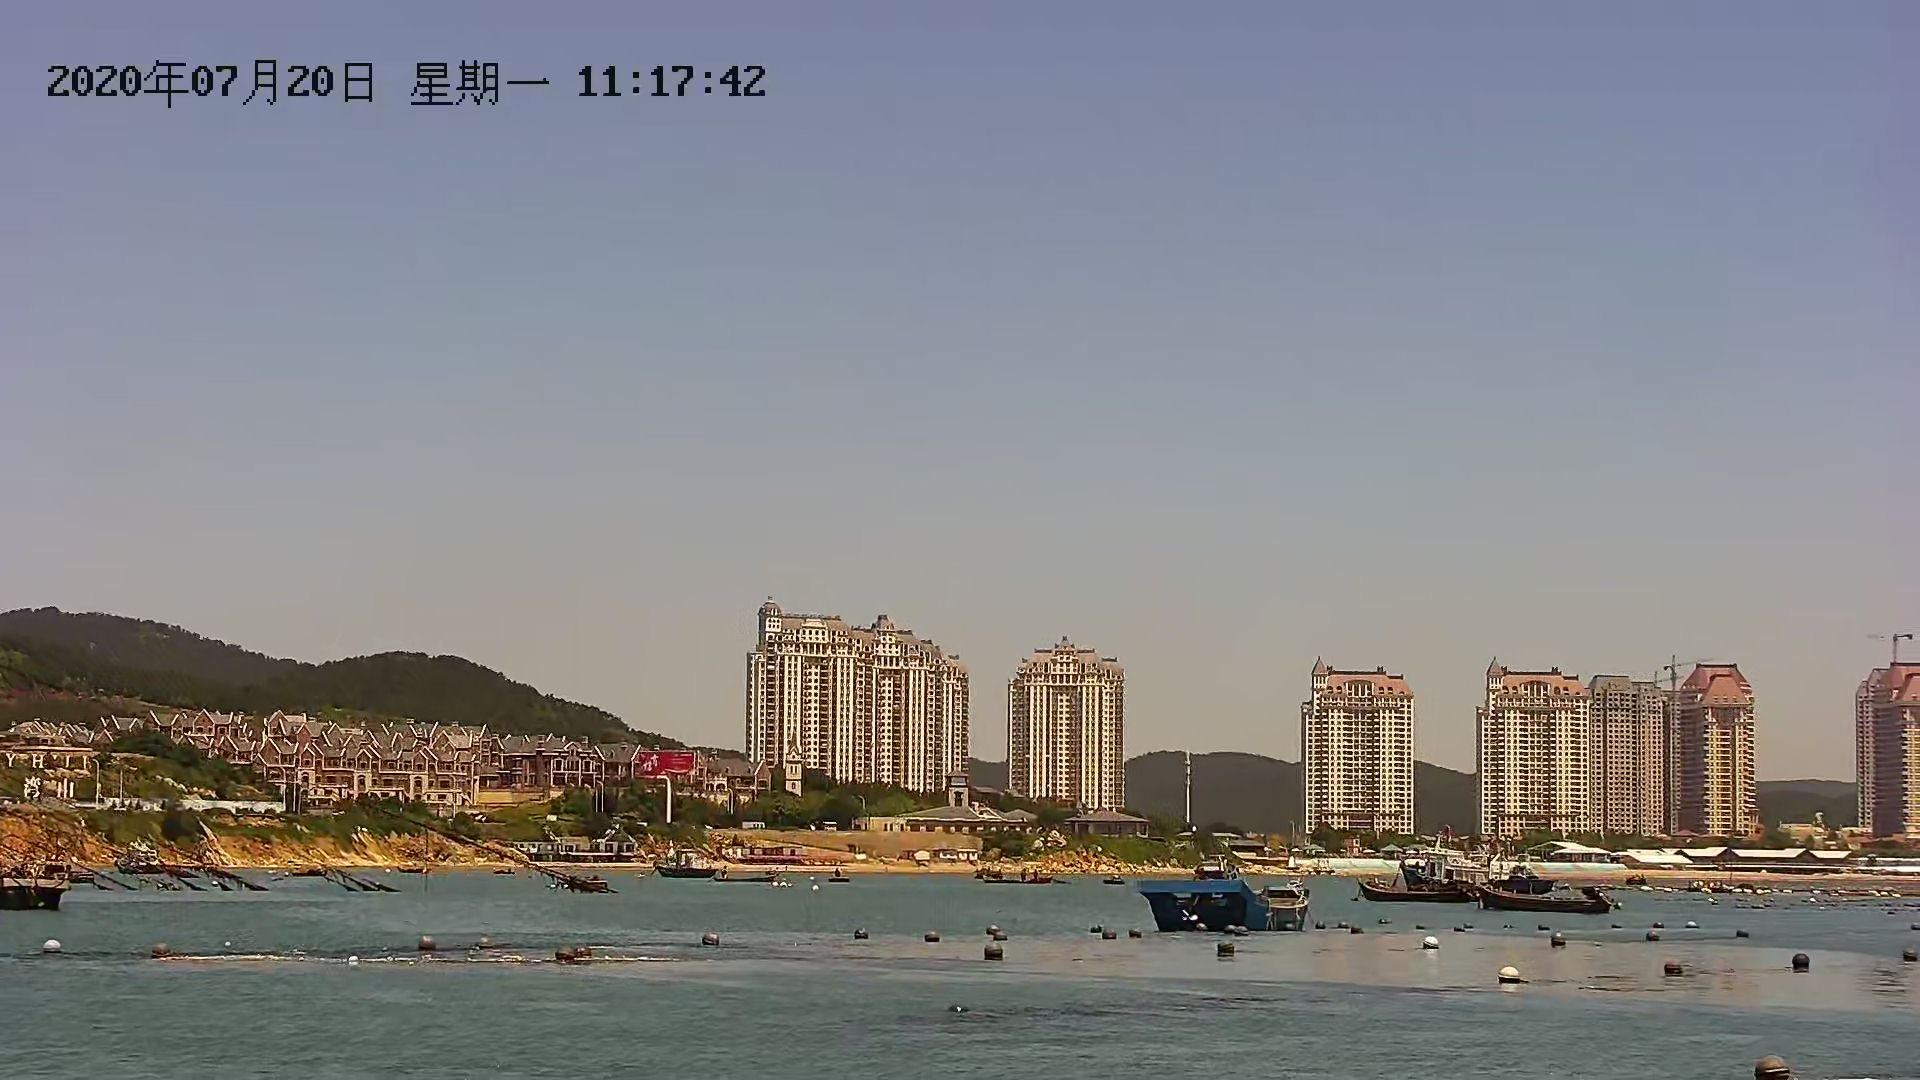ball: (1749, 1044, 1791, 1079), (1751, 1044, 1791, 1079), (1213, 939, 1244, 961), (1656, 963, 1691, 982), (978, 942, 1011, 961), (1503, 964, 1532, 986), (1789, 953, 1818, 973)
boat: (1133, 860, 1331, 930), (1135, 860, 1317, 934), (1482, 860, 1611, 915), (1349, 856, 1499, 903), (654, 848, 744, 878)
